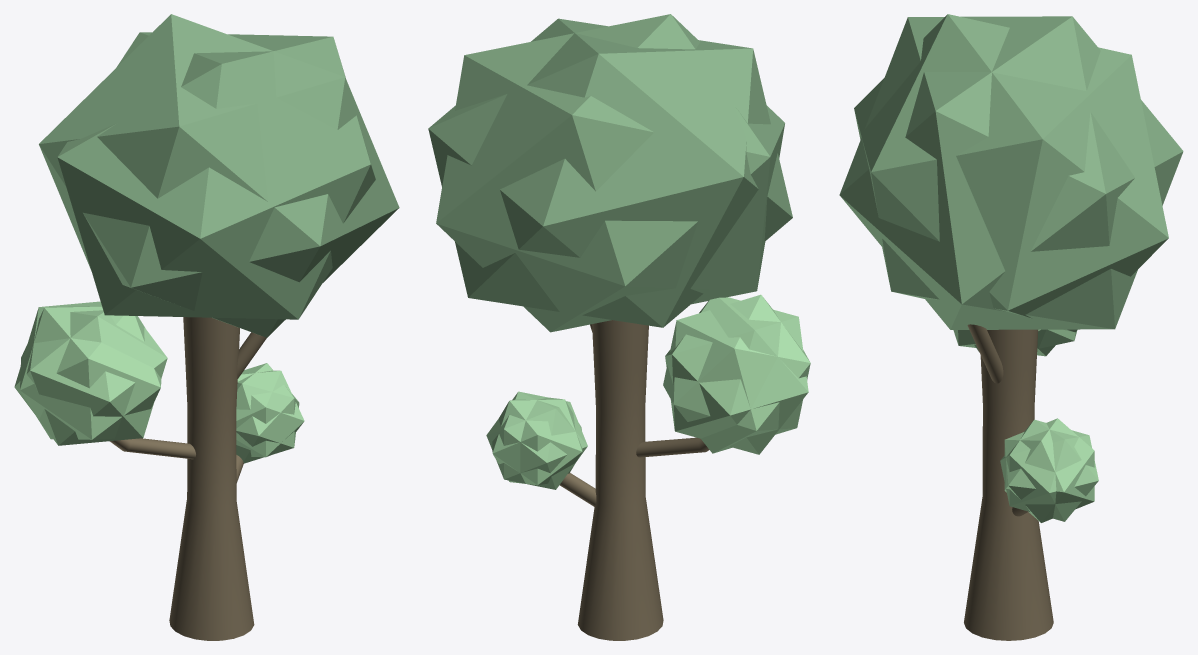
File: TreeTall.fbx
3 renders of one model, left to right at view 1: azimuth 30°, elevation 25°; view 2: azimuth 150°, elevation 25°; view 3: azimuth 270°, elevation 25°, orthographic. The views are drawn at different scales.
Visible parts, largest first — view 1: trees:pPlatonic19, trees:pCylinder1, trees:pPlatonic17, trees:pPlatonic18, trees:pCylinder3, trees:pCylinder4; view 2: trees:pPlatonic19, trees:pCylinder1, trees:pPlatonic17, trees:pPlatonic18, trees:pCylinder3, trees:pCylinder2; view 3: trees:pPlatonic19, trees:pCylinder1, trees:pPlatonic18, trees:pPlatonic17, trees:pCylinder4.
Part boxes in pixels (box(x1,y1,x2,y2)): trees:pPlatonic19: box(39, 14, 399, 337); trees:pCylinder1: box(169, 317, 254, 640); trees:pPlatonic17: box(14, 301, 167, 445); trees:pPlatonic18: box(236, 363, 304, 463); trees:pCylinder3: box(110, 438, 195, 459); trees:pCylinder4: box(237, 332, 266, 378); trees:pPlatonic19: box(428, 14, 792, 332); trees:pCylinder1: box(577, 320, 663, 640); trees:pPlatonic17: box(663, 294, 810, 454); trees:pPlatonic18: box(486, 391, 587, 489); trees:pCylinder3: box(636, 437, 709, 457); trees:pCylinder2: box(559, 473, 596, 506); trees:pPlatonic19: box(839, 14, 1183, 332); trees:pCylinder1: box(964, 329, 1053, 640); trees:pPlatonic18: box(1000, 418, 1098, 522); trees:pPlatonic17: box(953, 329, 1077, 356); trees:pCylinder4: box(967, 324, 1003, 383).
Bounding box in the file's own units: 11.93 × 18.76 × 9.72.
